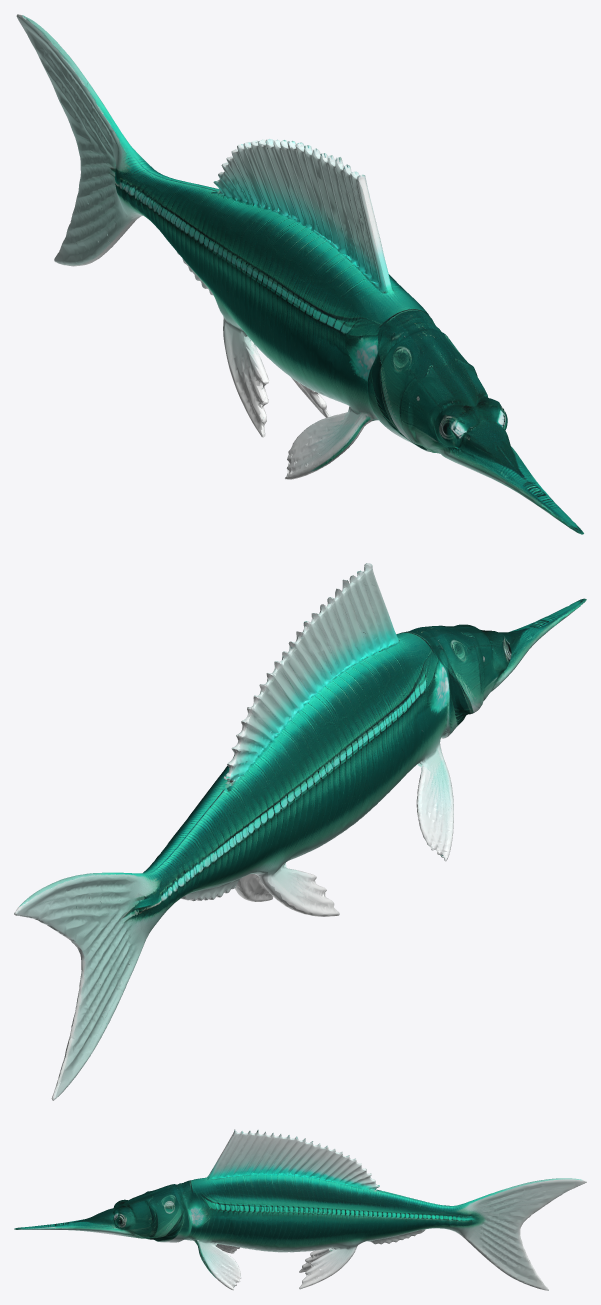
The model's file is fish_glasspike.glb.
3 views of the same model, one above another, from view 1: azimuth 30°, elevation 25°; view 2: azimuth 150°, elevation 25°; view 3: azimuth 270°, elevation 25° (orthographic). The views are drawn at different scales.
Size of the model in its own units: 0.2914 by 0.5826 by 1.9.
Materials: 1 (1 with a texture image).
